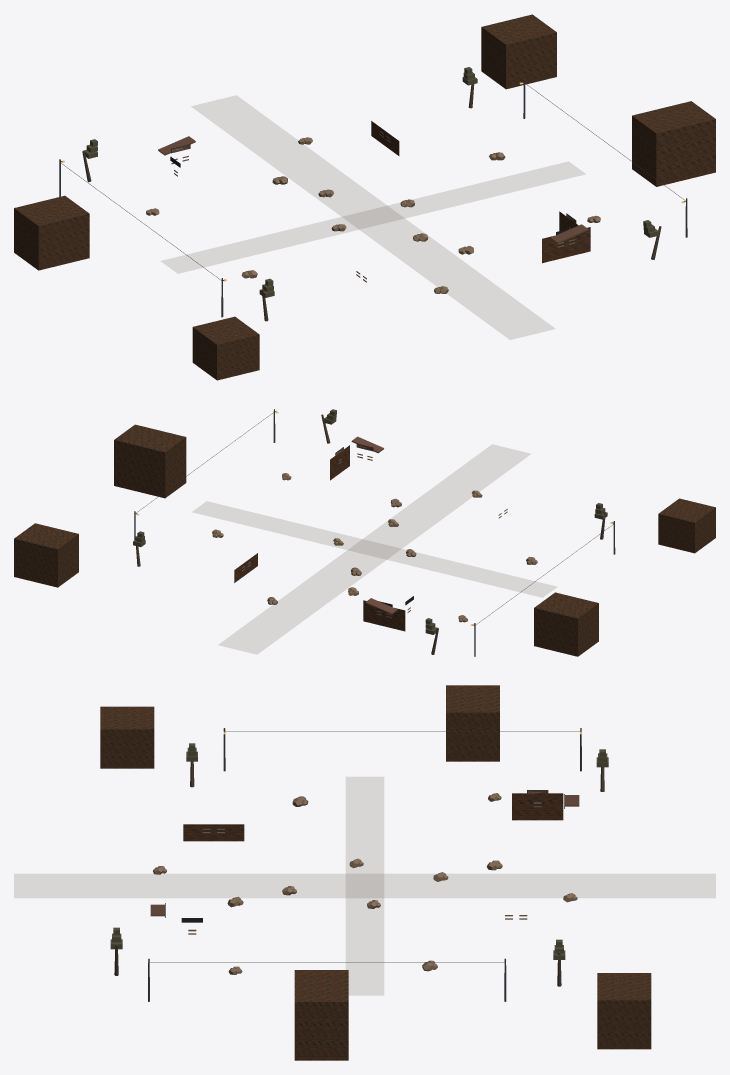
The model's file is refined-pueblo.glb.
3 views of the same model, one above another, from view 1: azimuth 30°, elevation 25°; view 2: azimuth 150°, elevation 25°; view 3: azimuth 270°, elevation 25° (orthographic). The views are drawn at different scales.
Parts seen in each view (by area): view 1: refined-pueblo-material-4, refined-pueblo-material-24, refined-pueblo-material-0, refined-pueblo-material-3, refined-pueblo-material-23, refined-pueblo-material-2; view 2: refined-pueblo-material-4, refined-pueblo-material-24, refined-pueblo-material-0, refined-pueblo-material-3, refined-pueblo-material-23, refined-pueblo-material-2; view 3: refined-pueblo-material-4, refined-pueblo-material-24, refined-pueblo-material-0, refined-pueblo-material-3, refined-pueblo-material-23, refined-pueblo-material-21.
Boxes of the visible parts, bbox=[...] form: refined-pueblo-material-4: bbox=[161, 96, 584, 339]; refined-pueblo-material-24: bbox=[14, 14, 715, 380]; refined-pueblo-material-0: bbox=[371, 121, 590, 263]; refined-pueblo-material-3: bbox=[146, 137, 600, 293]; refined-pueblo-material-23: bbox=[84, 67, 658, 297]; refined-pueblo-material-2: bbox=[158, 136, 588, 243]; refined-pueblo-material-4: bbox=[193, 445, 556, 653]; refined-pueblo-material-24: bbox=[14, 424, 715, 656]; refined-pueblo-material-0: bbox=[234, 445, 405, 631]; refined-pueblo-material-3: bbox=[212, 473, 537, 622]; refined-pueblo-material-23: bbox=[133, 409, 607, 634]; refined-pueblo-material-2: bbox=[351, 436, 397, 614]; refined-pueblo-material-4: bbox=[14, 777, 715, 994]; refined-pueblo-material-24: bbox=[100, 685, 651, 1060]; refined-pueblo-material-0: bbox=[183, 793, 563, 841]; refined-pueblo-material-3: bbox=[153, 793, 577, 974]; refined-pueblo-material-23: bbox=[110, 743, 608, 959]; refined-pueblo-material-21: bbox=[150, 731, 579, 962].
Size of the model in its own units: 71.5 by 6 by 65.
26 materials, 6 textured.
